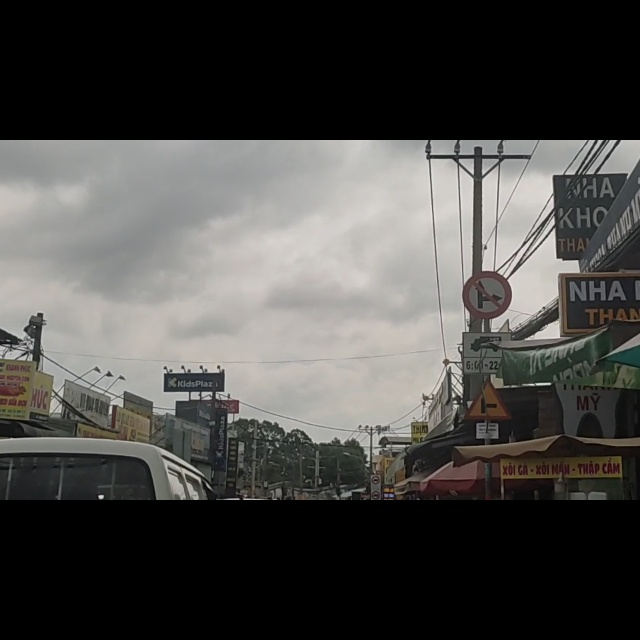bien_nguy_hiem: (463, 233, 510, 314), (461, 341, 513, 410), (465, 425, 513, 498)
